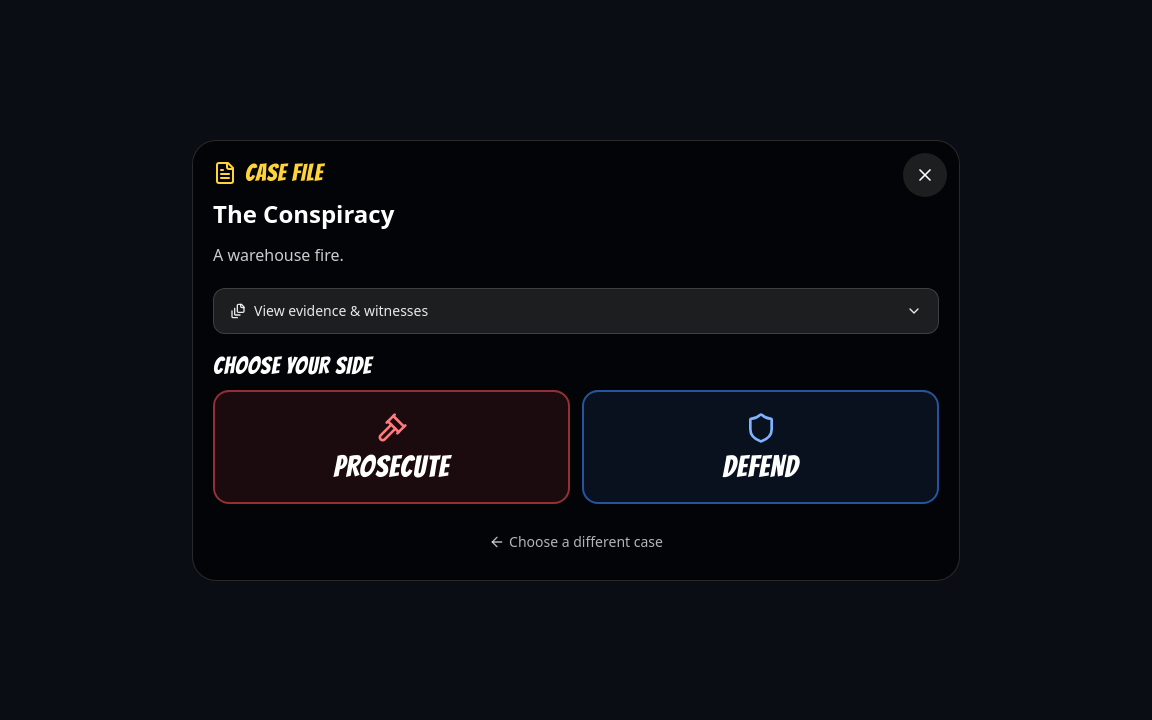
Test: CasePreview (accept the case) › names the case with "case" after it in both briefings
This screenshot has width=1152, height=720.
Later steps or results of the test are not shown.
Click the button "PROSECUTE". click: (392, 446)
box: [213, 390, 570, 504]
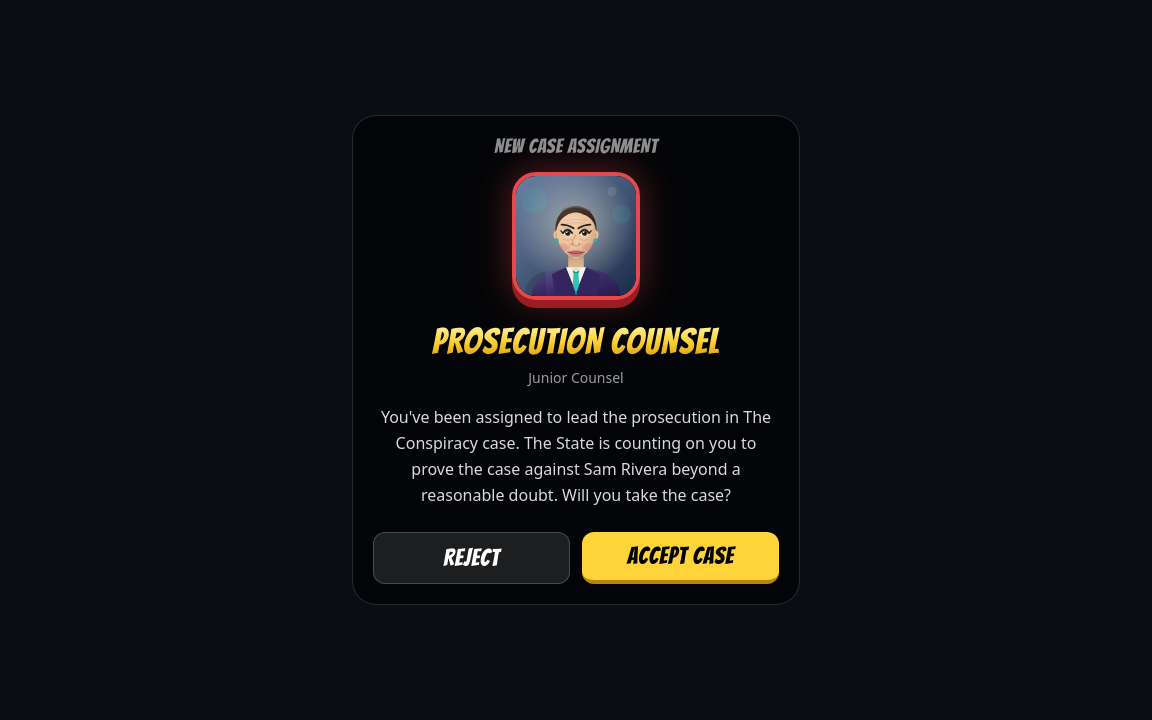
Result: the text "lead the prosecution in The Conspiracy case." is shown at [381, 406, 771, 506]
